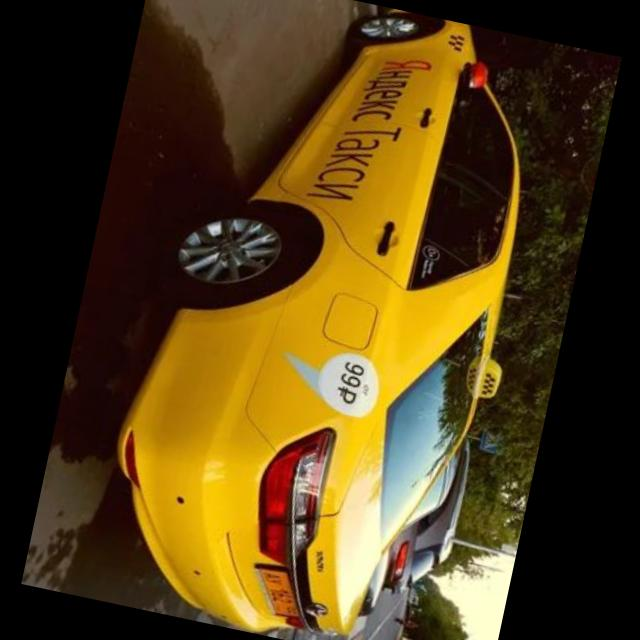taxi: (83, 1, 573, 640)
